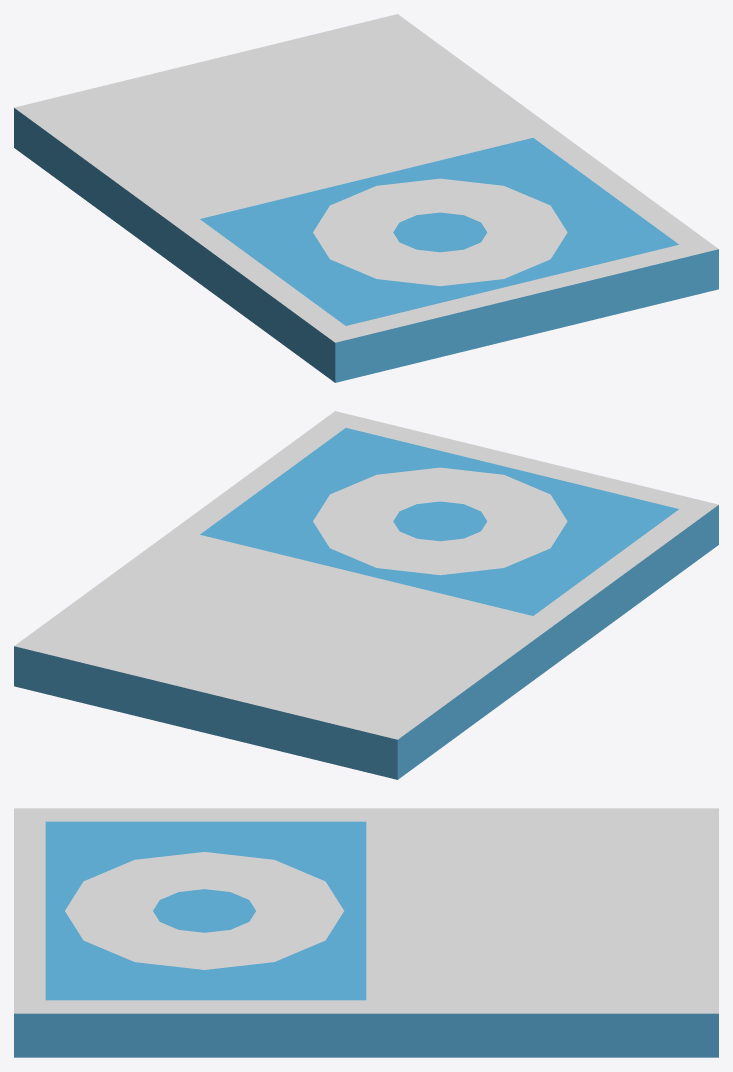
File: Metal i Pod.fbx
3 renders of one model, top to bottom at view 1: azimuth 30°, elevation 25°; view 2: azimuth 150°, elevation 25°; view 3: azimuth 270°, elevation 25°, orthographic. The views are drawn at different scales.
Parts seen in each view (by area): view 1: i Pod metal; view 2: i Pod metal; view 3: i Pod metal.
Part boxes in pixels (x1,y1,x2,y2): i Pod metal: (14,14,718,382); i Pod metal: (14,411,718,779); i Pod metal: (14,808,718,1057).
Bounding box in the file's own units: 78.62 × 7.86 × 114.
